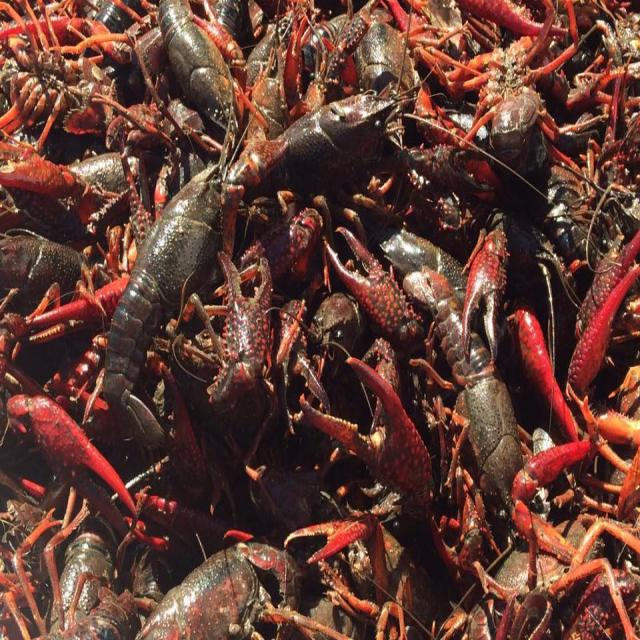Crawfish: (2, 4, 638, 636)
